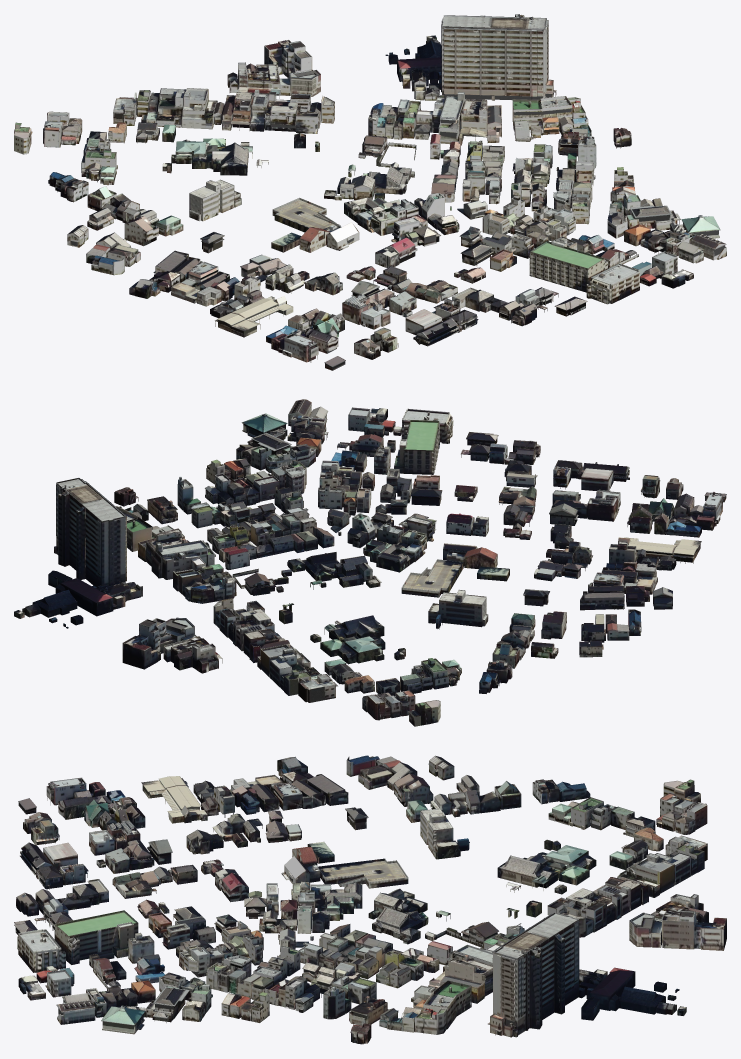
The model's file is lod3-station-4-0-packed.glb.
3 views of the same model, one above another, from view 1: azimuth 30°, elevation 25°; view 2: azimuth 150°, elevation 25°; view 3: azimuth 270°, elevation 25° (orthographic). The views are drawn at different scales.
Size of the model in its own units: 333 by 47.17 by 356.
37 materials, 36 textured.
